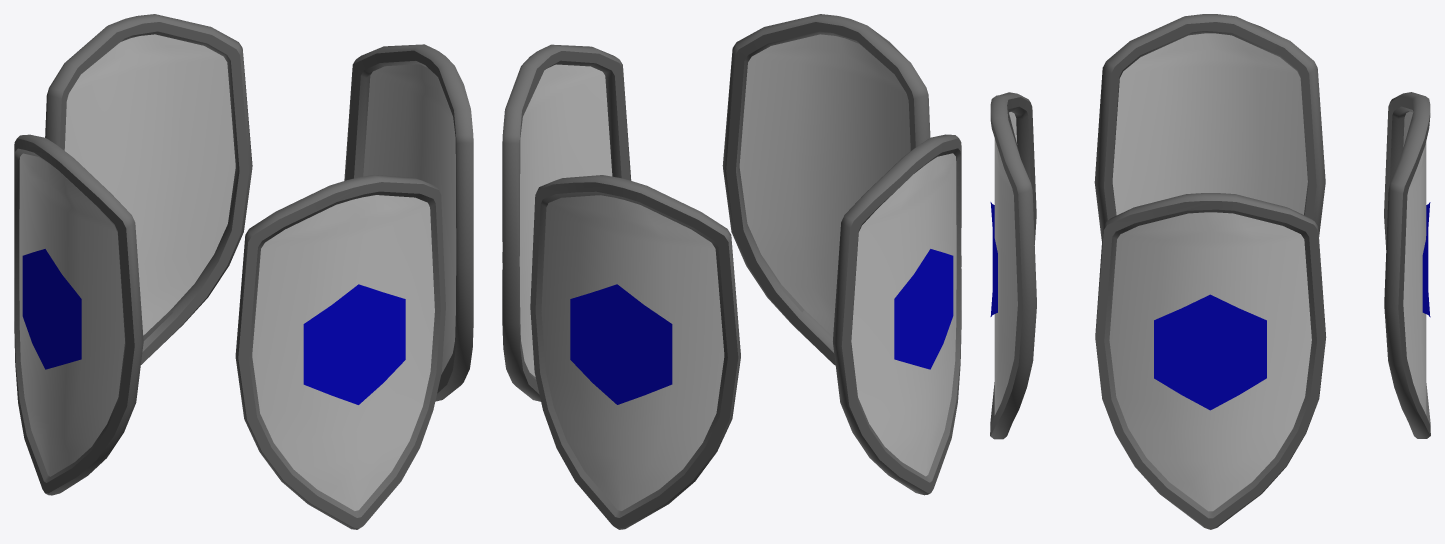
File: Shields.glb
The picture shows the model from 3 angles, left to right: view 1: azimuth 30°, elevation 25°; view 2: azimuth 150°, elevation 25°; view 3: azimuth 270°, elevation 25°; orthographic projection. The views are drawn at different scales.
Parts seen in each view (by area): view 1: shield; view 2: shield; view 3: shield.
Part boxes in pixels (x1=…): shield: x1=14, y1=14, x2=473, y2=529; shield: x1=502, y1=14, x2=961, y2=529; shield: x1=990, y1=14, x2=1430, y2=529.
Bounding box in the file's own units: 2.07 × 1.72 × 2.07.
